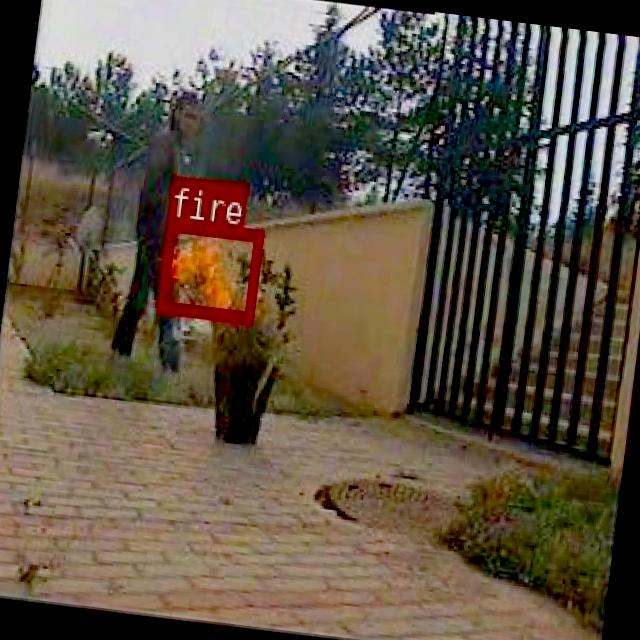fire: (156, 217, 262, 320)
